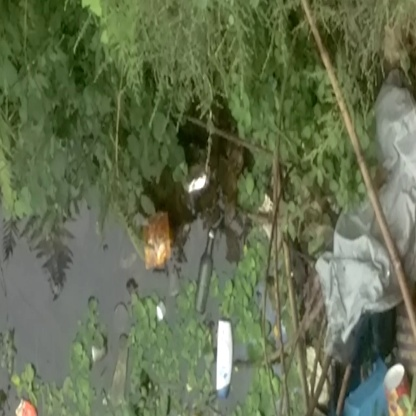bottle: (209, 316, 246, 401), (185, 218, 218, 309)
